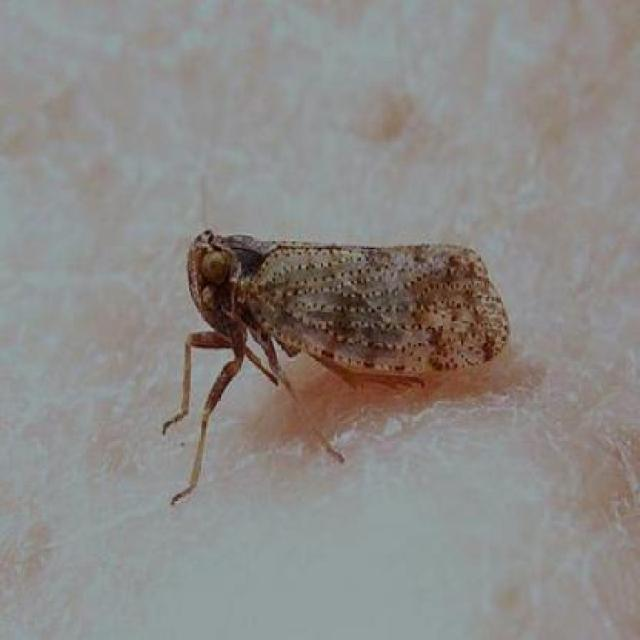brown-planthopper: (174, 218, 509, 410)
